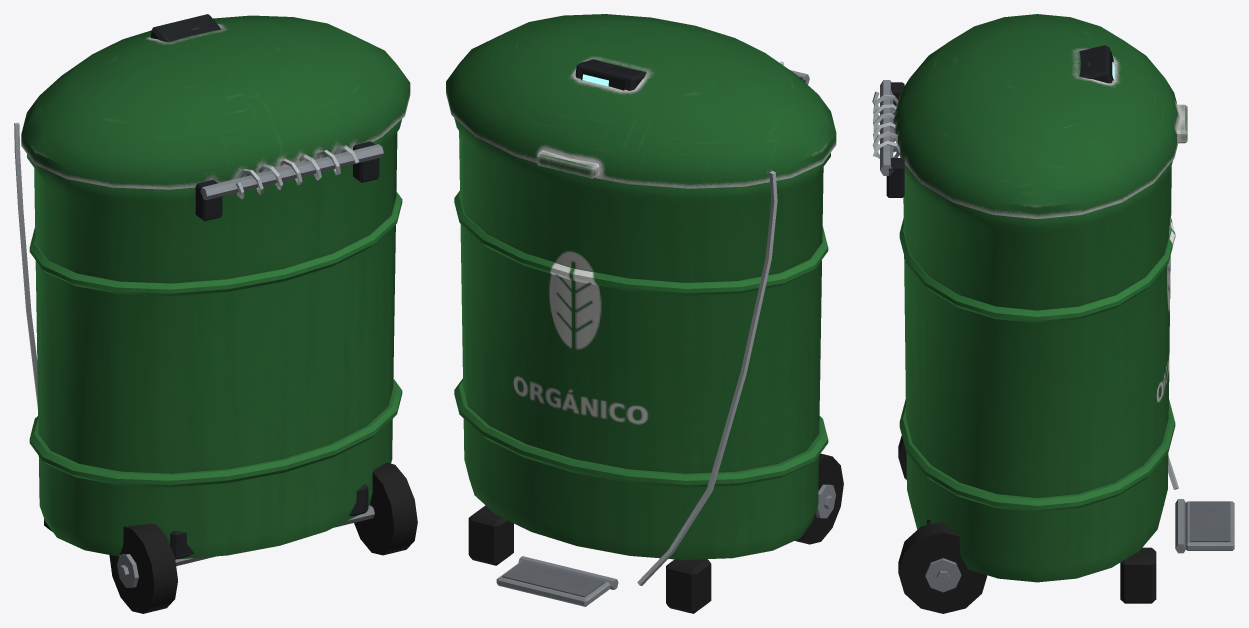
Rendered from contenedor_basura.fbx.
3 views of the same model, side by side, from view 1: azimuth 30°, elevation 25°; view 2: azimuth 150°, elevation 25°; view 3: azimuth 270°, elevation 25° (orthographic).
Parts seen in each view (by area): view 1: contenedor_basura; view 2: contenedor_basura; view 3: contenedor_basura.
Boxes of the visible parts, bbox=[...] form: contenedor_basura: bbox=[14, 14, 417, 613]; contenedor_basura: bbox=[446, 14, 843, 613]; contenedor_basura: bbox=[872, 14, 1234, 613].
Bounding box in the file's own units: 1.84 × 2.42 × 1.62.
2 materials, 1 textured.
